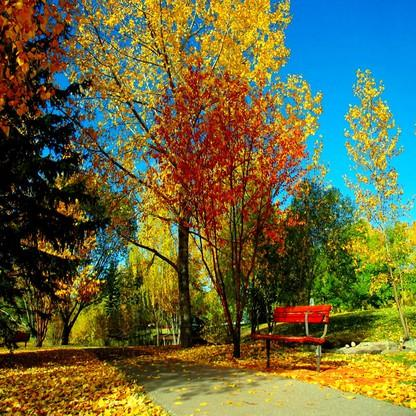obstacle: (251, 291, 357, 384)
